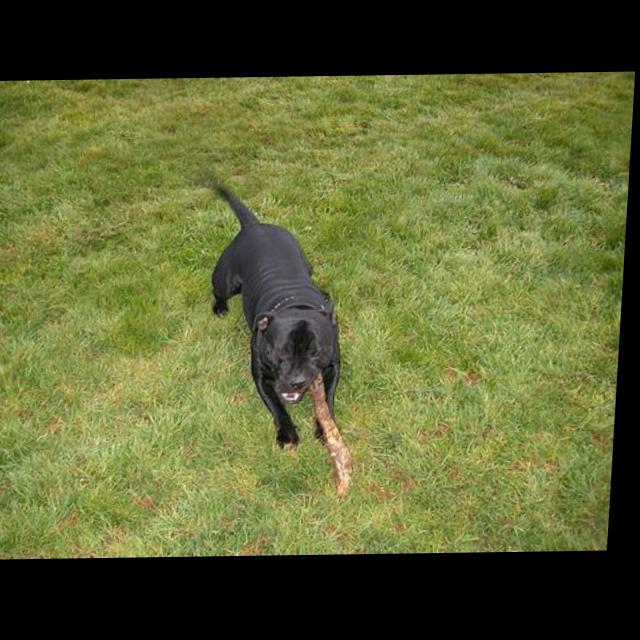staffford: (203, 178, 357, 453)
